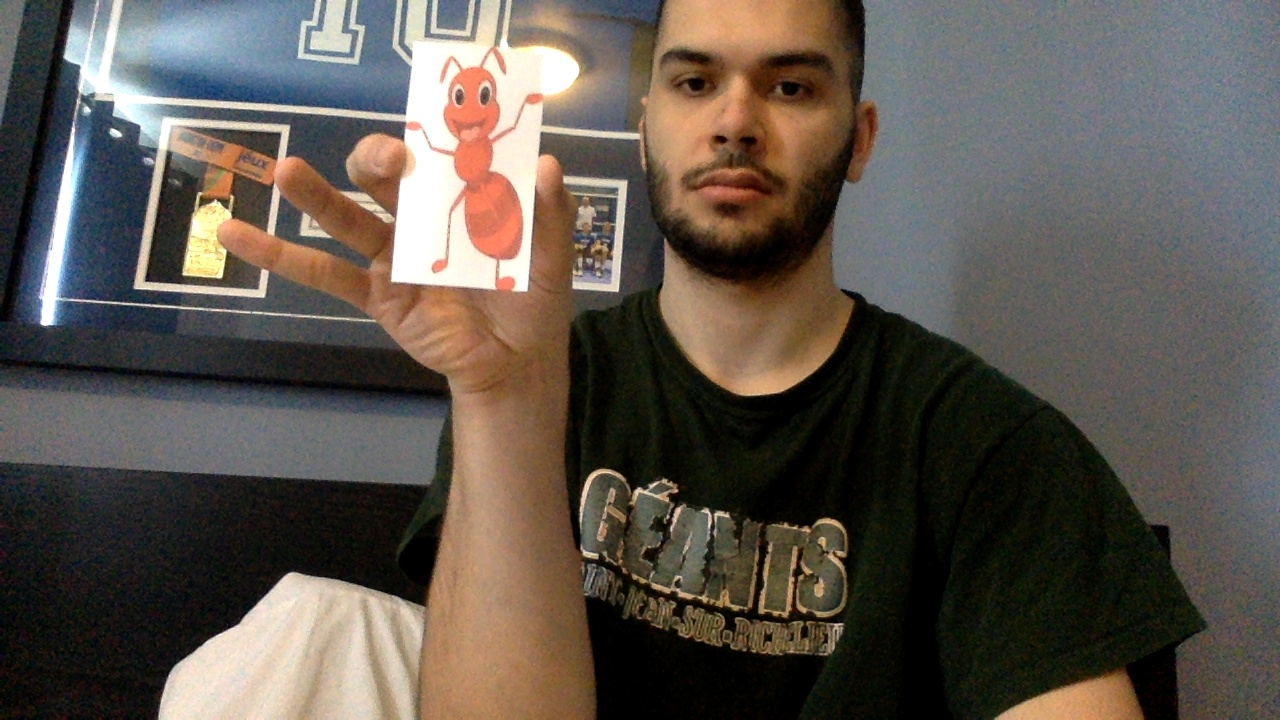Happy: (407, 46, 545, 293)
